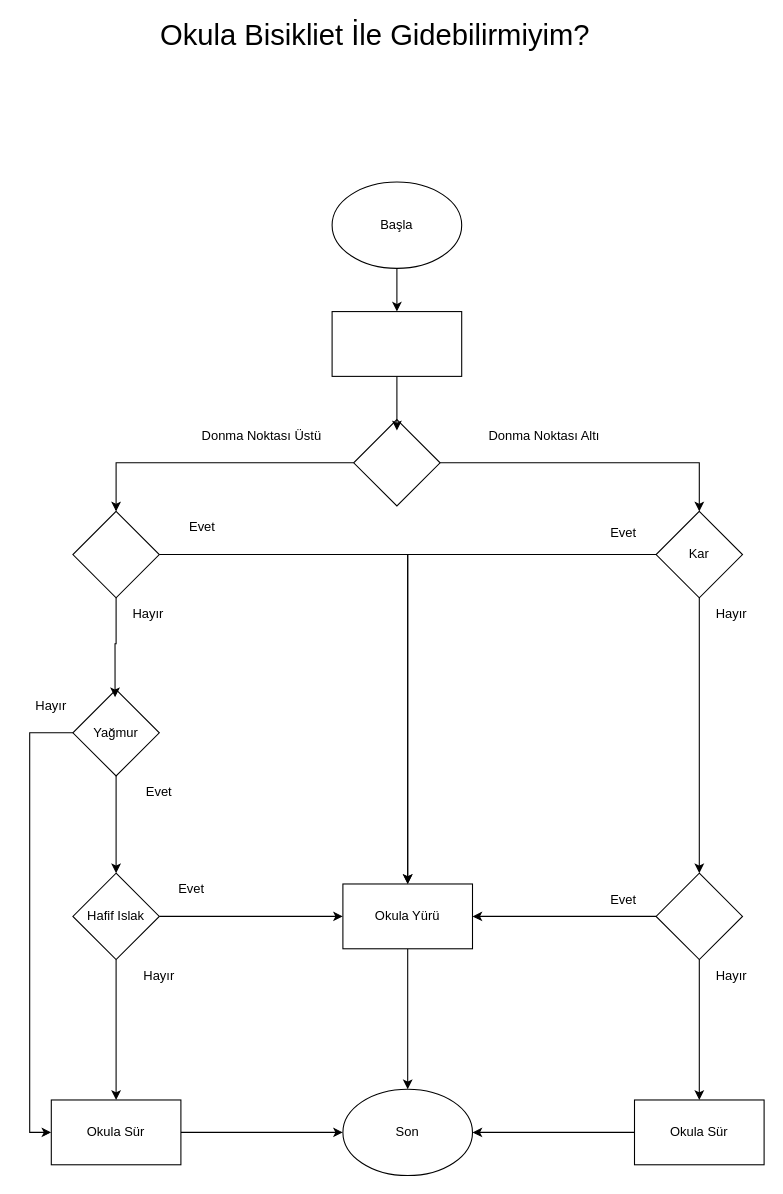
Some shapes in this 783 by 1194 pixel diagram are drawn without their labels. Here are the shapes that lost their labels. From the top down, the centre of each, then its label:
At point (396, 343): "Havayı Kontrol Et".
At point (396, 462): "Sıcaklık".
At point (115, 554): "Islak Yol".
At point (698, 916): "Soğuk Yol".
